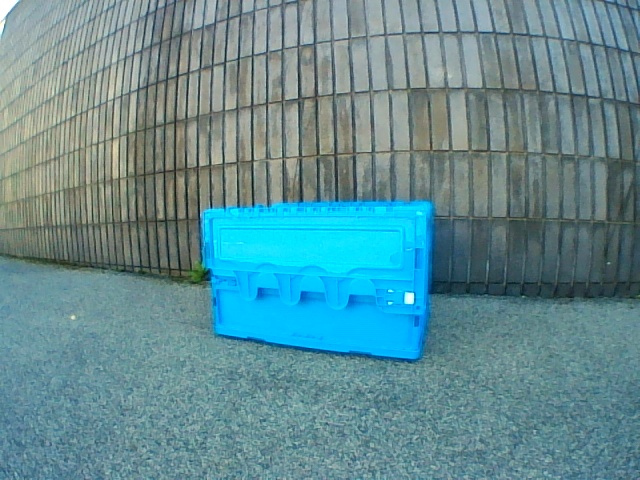blue_box: (203, 201, 431, 360)
